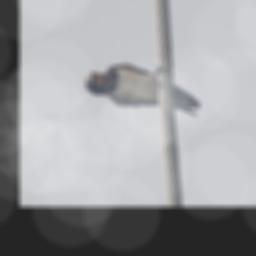Swallow: (84, 58, 202, 125)
